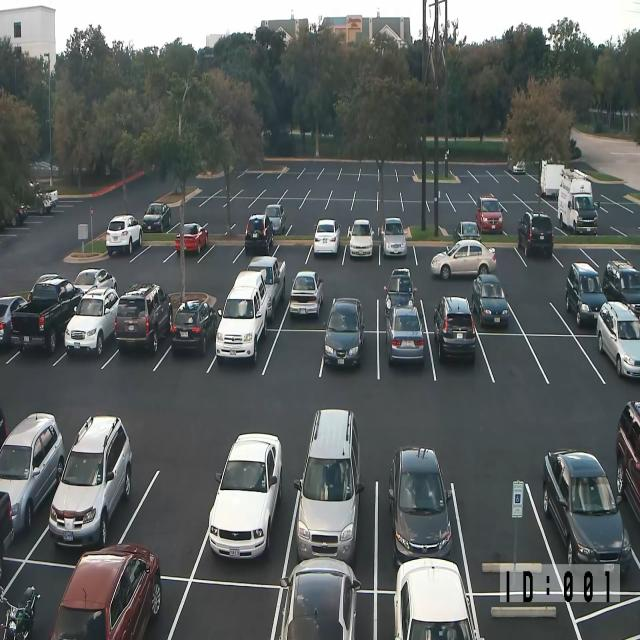car: (48, 413, 132, 548), (293, 407, 364, 564), (542, 448, 631, 569), (50, 543, 162, 639), (208, 432, 282, 560), (0, 411, 65, 538), (388, 445, 452, 565), (270, 556, 361, 639), (394, 556, 479, 640), (10, 274, 84, 354), (215, 270, 270, 362), (114, 282, 172, 353), (64, 286, 119, 356), (596, 301, 640, 378), (615, 398, 640, 522), (323, 296, 365, 368), (433, 295, 476, 363), (565, 261, 607, 327), (431, 238, 496, 280), (170, 298, 217, 356), (246, 255, 286, 322), (558, 169, 598, 235), (384, 304, 424, 365), (0, 584, 41, 639), (602, 259, 640, 316), (472, 273, 509, 327), (517, 210, 554, 258), (289, 270, 323, 318), (384, 267, 416, 314), (106, 214, 142, 255), (0, 294, 27, 346), (0, 490, 15, 578), (74, 268, 118, 296), (244, 213, 273, 252), (475, 195, 503, 234), (174, 222, 208, 254), (380, 217, 407, 256), (348, 218, 374, 258), (313, 218, 341, 255), (142, 202, 171, 232), (264, 203, 286, 235), (453, 220, 481, 243), (11, 204, 28, 226), (30, 160, 58, 172), (0, 407, 7, 452), (512, 160, 526, 173), (29, 178, 40, 189), (568, 136, 576, 150)
